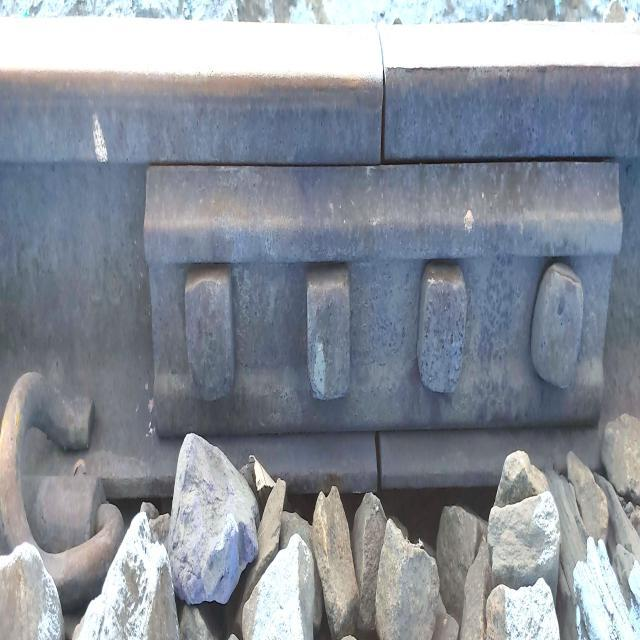Good Fasteners: (0, 354, 129, 611)
Good Joint: (141, 155, 621, 434)
